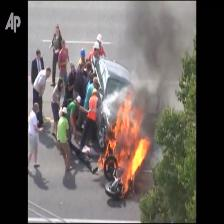nofire: (83, 92, 102, 128)
smoke: (108, 2, 195, 101), (104, 95, 155, 211)
